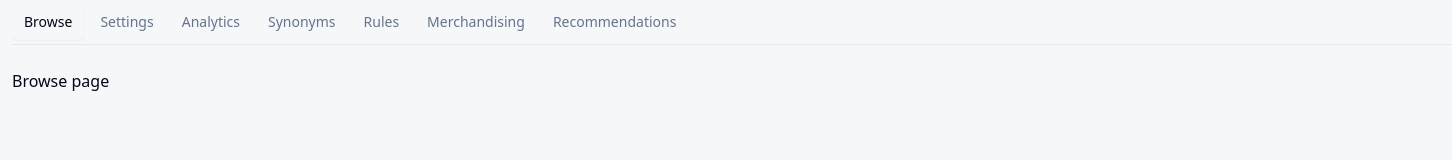
Test: IndexLayout › navigates between tab routes
The width and height of the screenshot is (1452, 160).
Click the link "Synonyms" at (302, 22), box [268,12,336,31]
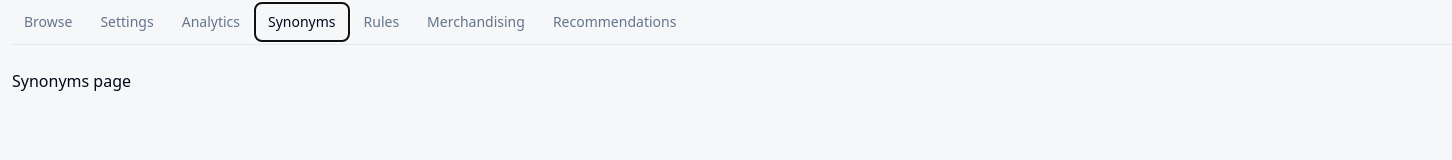
Result: the text "Synonyms page" is shown at [12,70,131,92]
